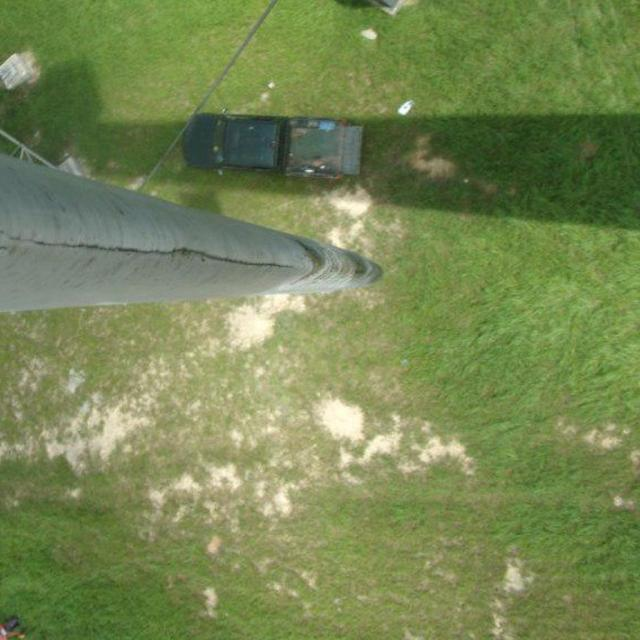crack: (16, 232, 296, 272)
